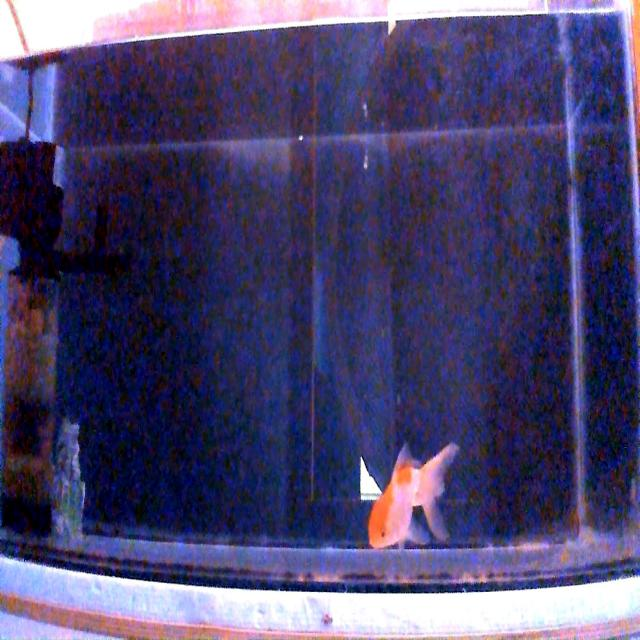fish: (366, 439, 459, 550)
